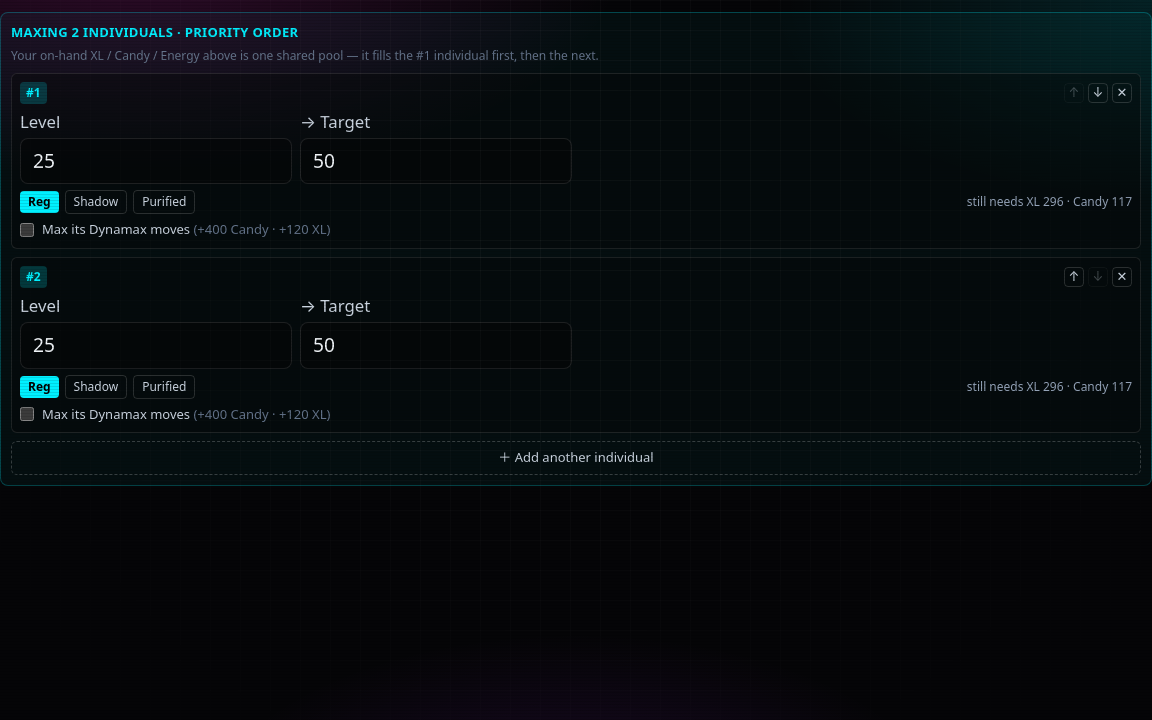
<CopiesEditor> › adds another individual on click
Click the button "＋ Add another individual" at (576, 458), box [11,441,1141,475]
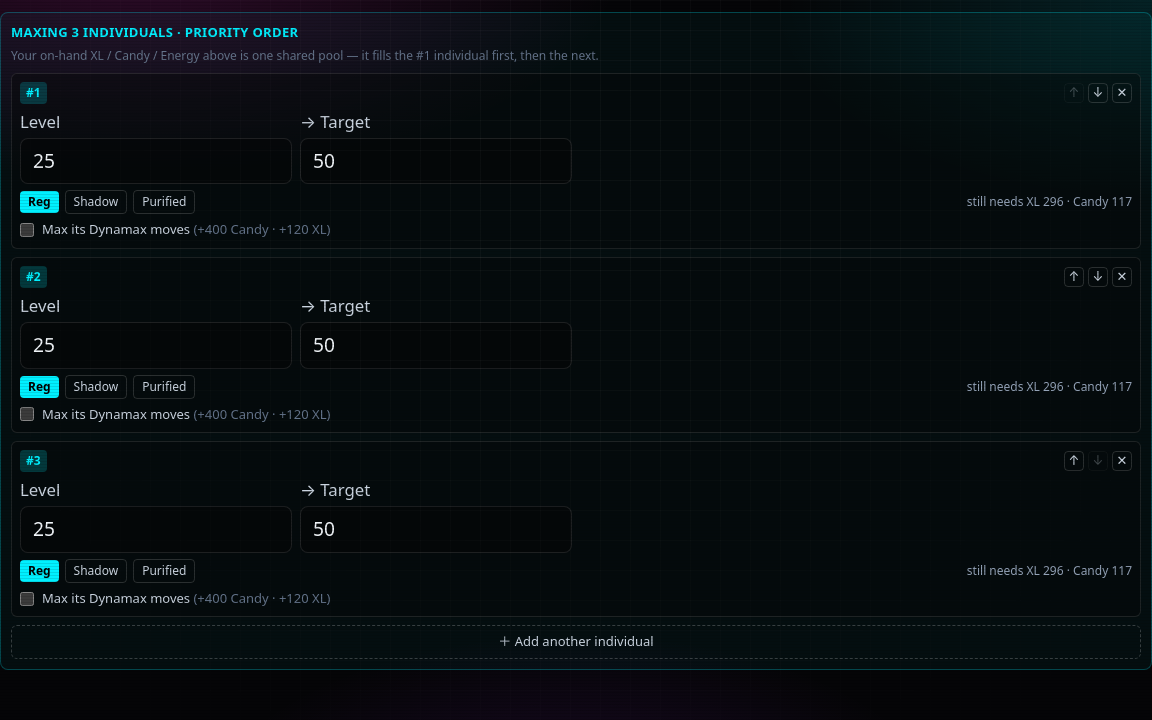
expect the text "#3" is shown: met, box [20,450,47,472]
